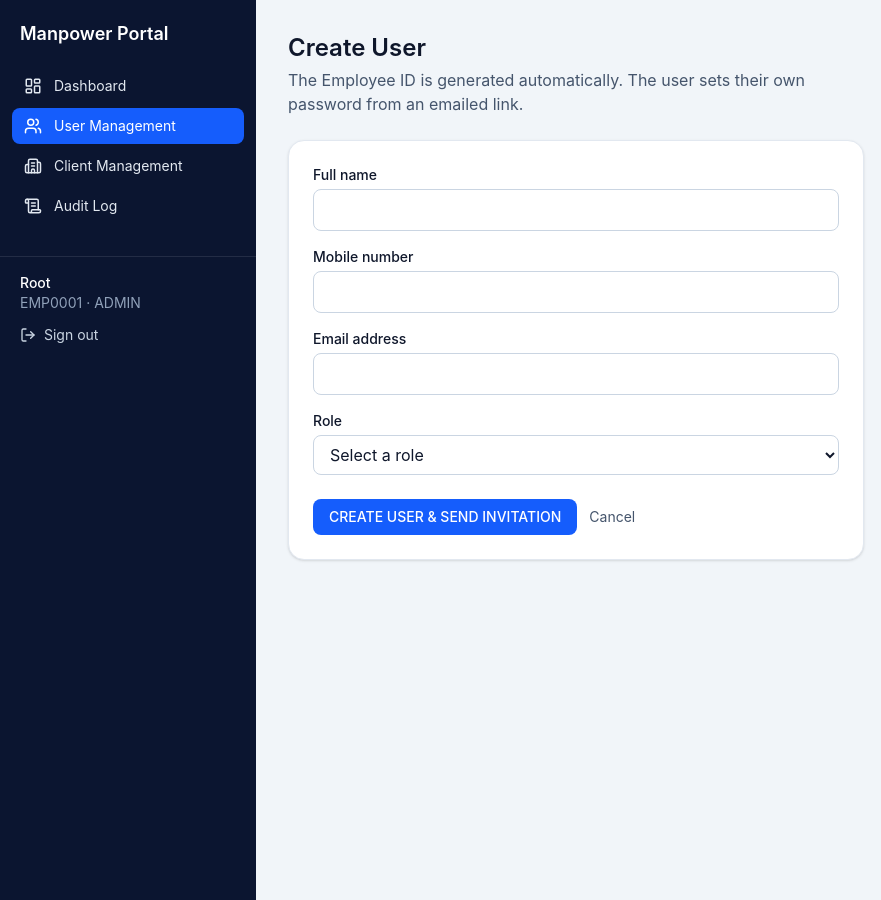
Scenario: duplicate email error appears beside the email field
Type "Asha Rao" into the field labelled "Full name" at [576, 210], box top-left (313, 189), bottom-right (839, 231)
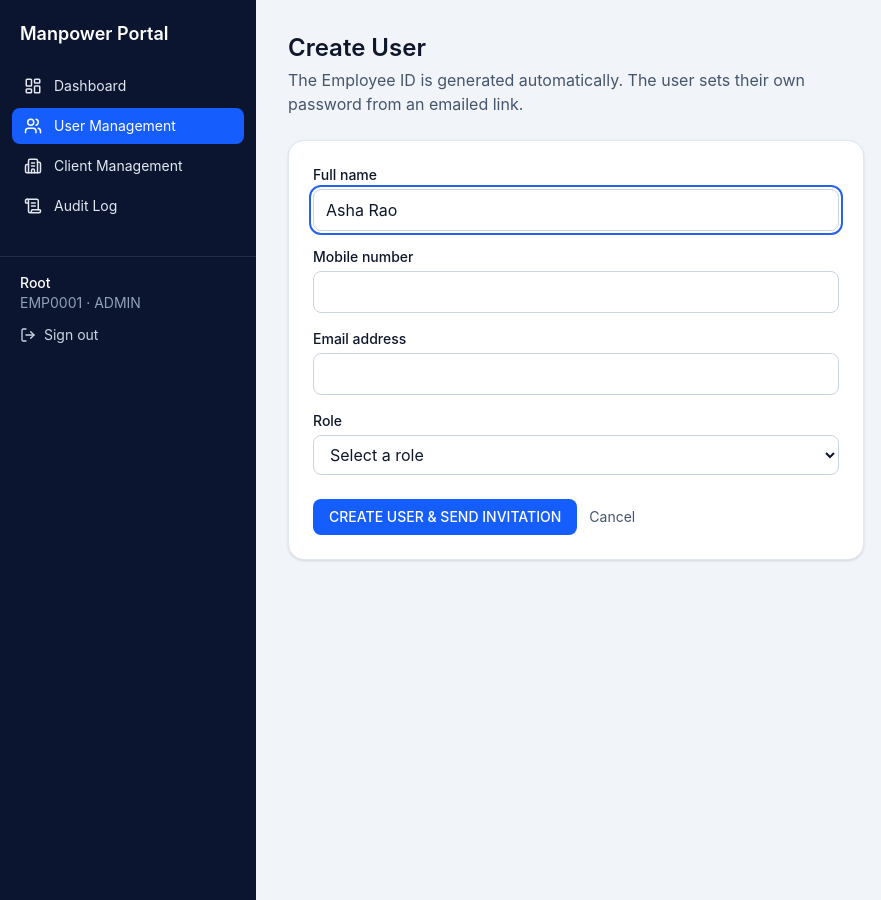
Type "9876543210" into the field labelled "Mobile number" at [576, 292], box top-left (313, 271), bottom-right (839, 313)
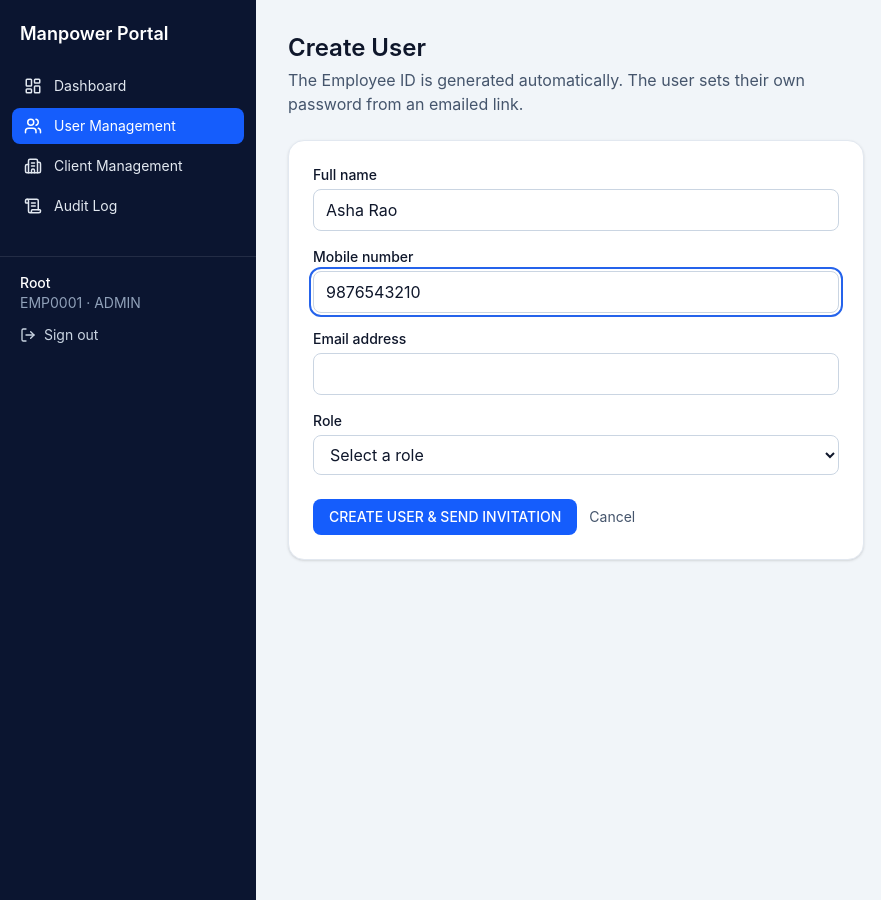
Type "asha@example.com" into the field labelled "Email address" at [576, 374], box top-left (313, 353), bottom-right (839, 395)
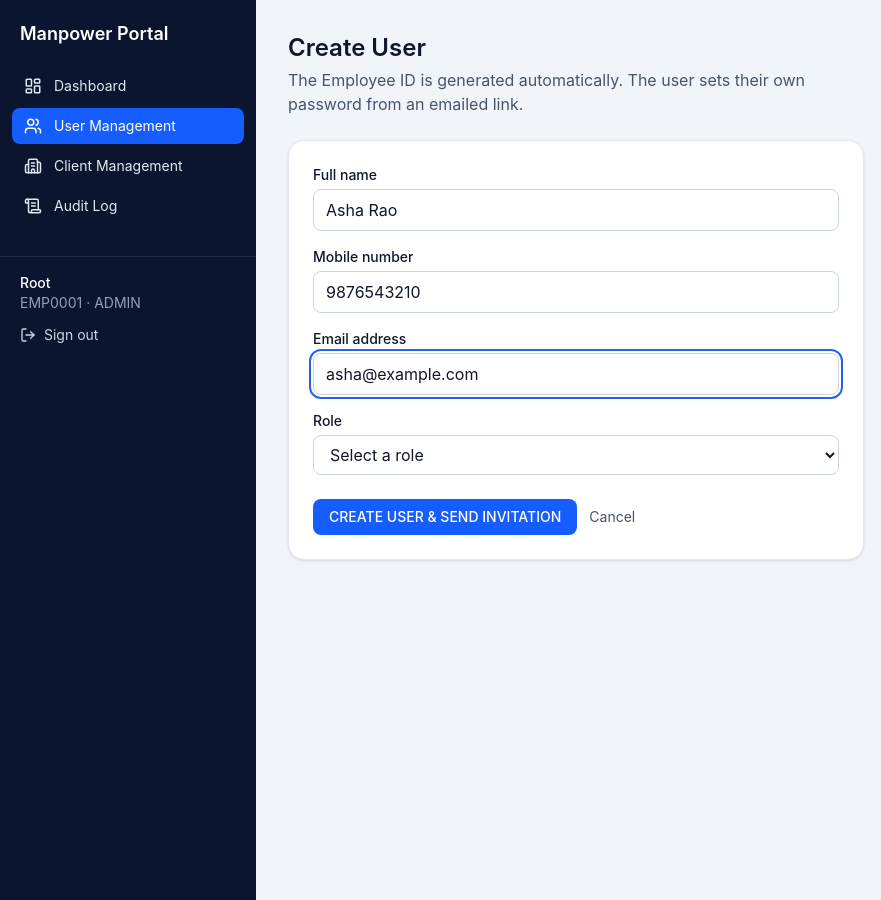
Select "Supervisor" in the dropdown labelled "Role" at [576, 455], box top-left (313, 435), bottom-right (839, 475)
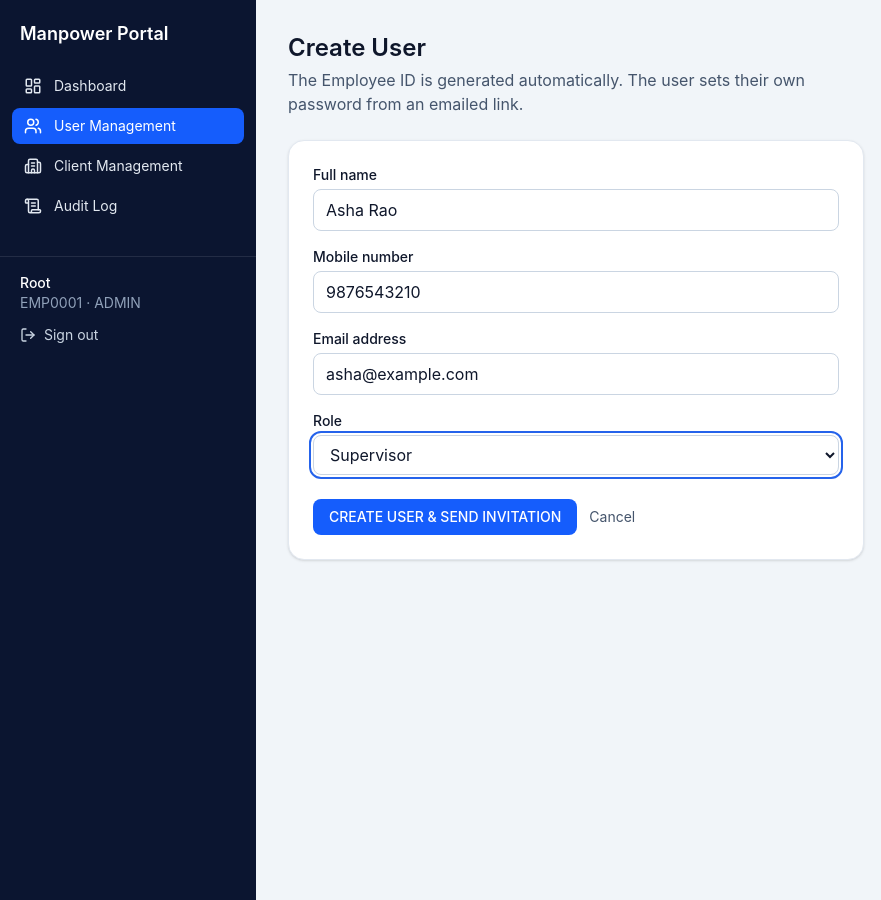
Click the button "CREATE USER & SEND INVITATION" at [445, 517], box top-left (313, 499), bottom-right (577, 535)
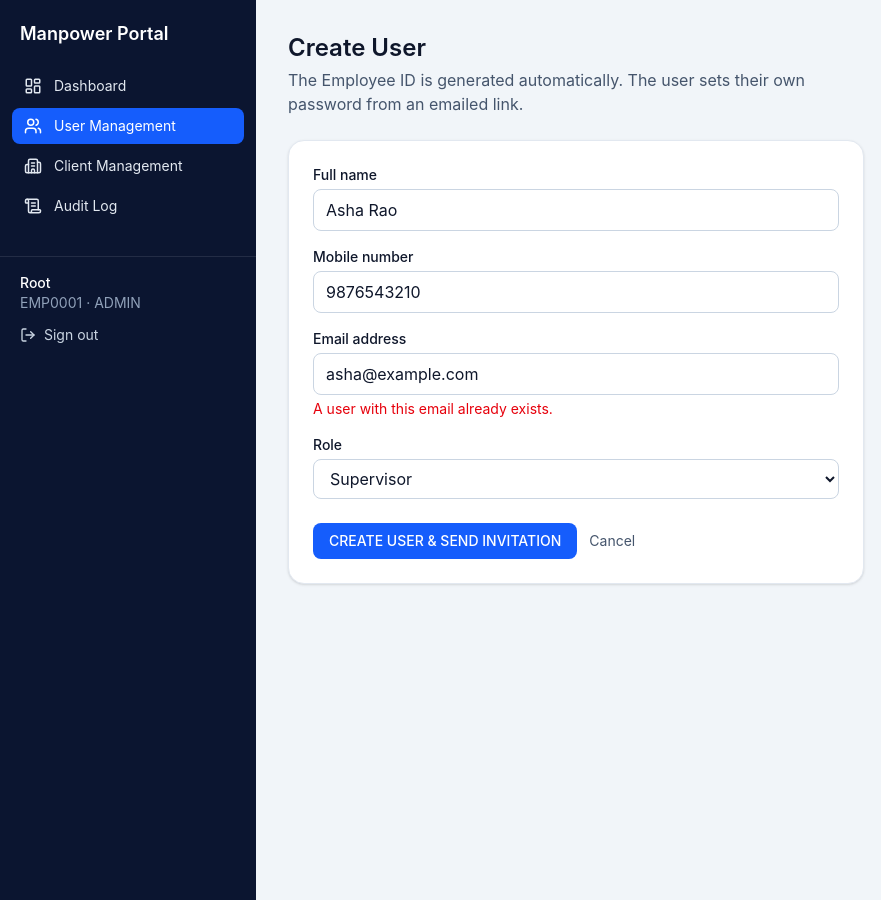
Expected: the text "A user with this email already exists." is shown, top-left (313, 400), bottom-right (553, 417)
